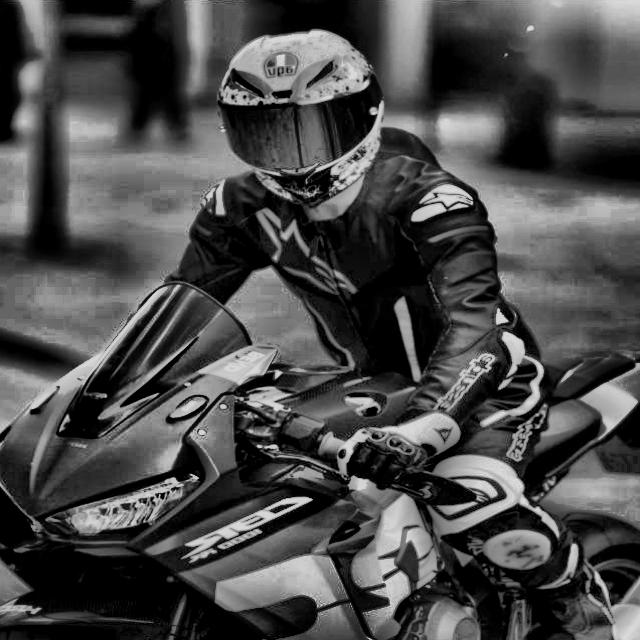Helmet: (212, 22, 396, 215)
